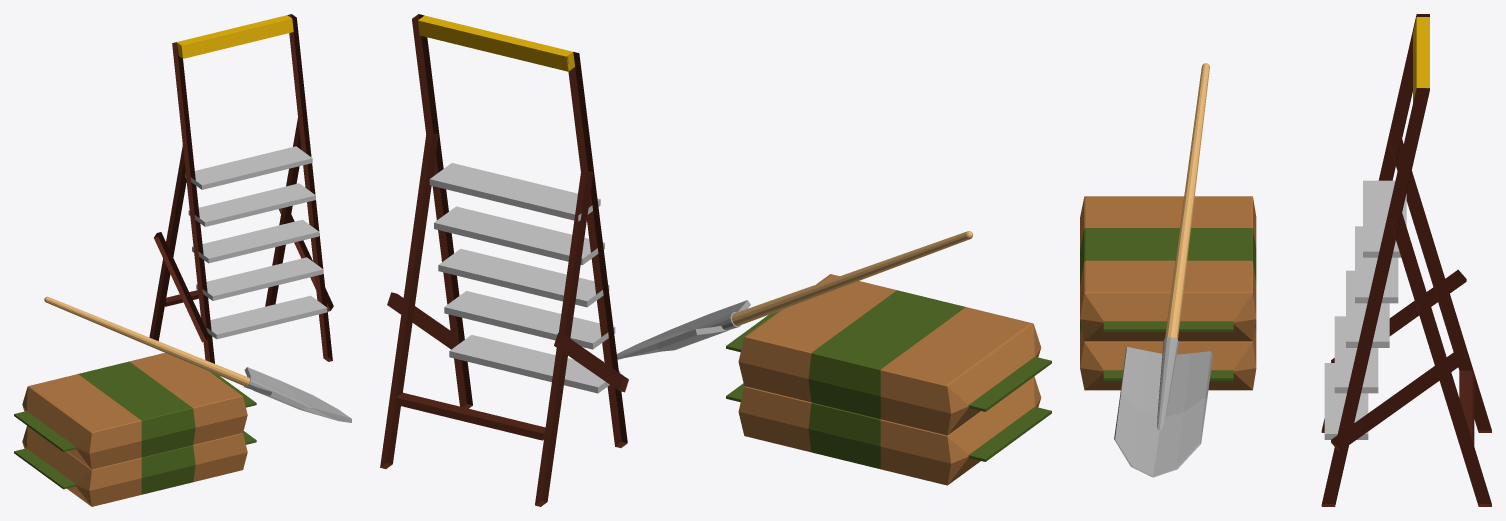
File: D1_CONSTRUCTION_ZONE_1.fbx
3 views of the same model, side by side, from view 1: azimuth 30°, elevation 25°; view 2: azimuth 150°, elevation 25°; view 3: azimuth 270°, elevation 25° (orthographic). The views are drawn at different scales.
Visible parts, largest first — view 1: D1_CONSTRUCTION_AREA_1; view 2: D1_CONSTRUCTION_AREA_1; view 3: D1_CONSTRUCTION_AREA_1.
Boxes of the visible parts, <box> form: D1_CONSTRUCTION_AREA_1: <box>14,14,351,506</box>; D1_CONSTRUCTION_AREA_1: <box>380,14,1051,506</box>; D1_CONSTRUCTION_AREA_1: <box>1080,14,1491,506</box>.
Bounding box in the file's own units: 180 × 153 × 137.
